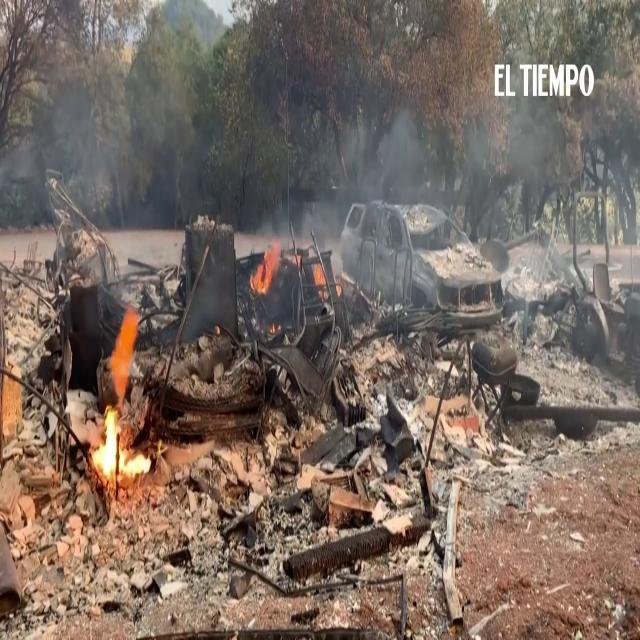Fire: (102, 310, 150, 404), (91, 412, 153, 474), (248, 238, 280, 294)
